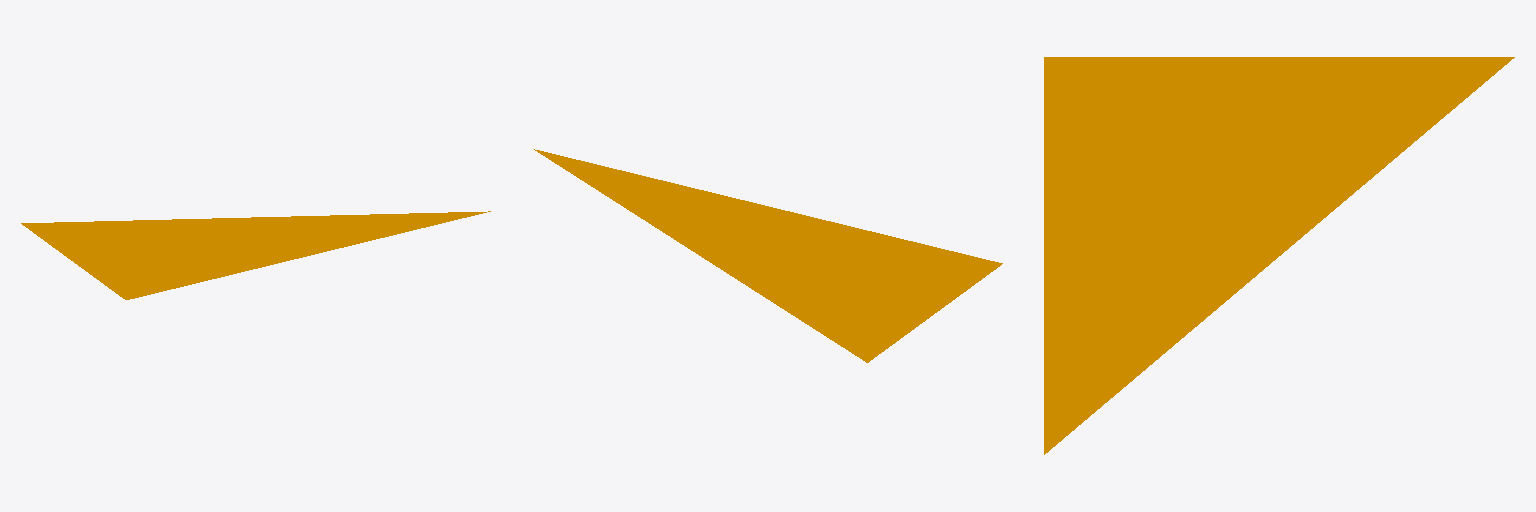
The robot description file, URDF, robot "quadruped":
<?xml version="1.0"?>
<robot name="quadruped">
  <link name="base">
    <visual>
      <geometry>
        <mesh filename="package://quadruped/meshes/body.stl"/>
      </geometry>
    </visual>
  </link>
  <link name="fl_thigh"/>
  <joint name="fl_hip" type="revolute">
    <parent link="base"/>
    <child link="fl_thigh"/>
    <origin xyz="0.19 0.05 0" rpy="0 0 0"/>
    <axis xyz="1 0 0"/>
    <limit lower="-0.8" upper="0.8" effort="23.7" velocity="30.1"/>
  </joint>
  <link name="front_camera"/>
  <joint name="front_camera_joint" type="fixed">
    <parent link="base"/>
    <child link="front_camera"/>
    <origin xyz="0.28 0 0.05" rpy="0 0.25 0"/>
  </joint>
  <gazebo reference="front_camera">
    <sensor name="front_camera" type="camera"/>
  </gazebo>
</robot>

--- Render facts (derived) ---
3 views of the same robot in one strip: view 1: azimuth 30°, elevation 25°; view 2: azimuth 150°, elevation 25°; view 3: azimuth 270°, elevation 25° (orthographic).
Model quadruped with 3 links and 2 joints (1 revolute, 1 fixed), rooted at base, posed every joint at zero.
Links seen in each view (by area): view 1: base; view 2: base; view 3: base.
Boxes of the visible links, x1,y1,x2,y2 form: base: [21, 211, 490, 299]; base: [534, 149, 1002, 362]; base: [1044, 57, 1514, 454].
Bounding box of the posed robot: 0.4 × 0.2 × 0 m (x, y, z).
1 mesh visuals loaded from 1 distinct referenced files (1 ASCII STL).
